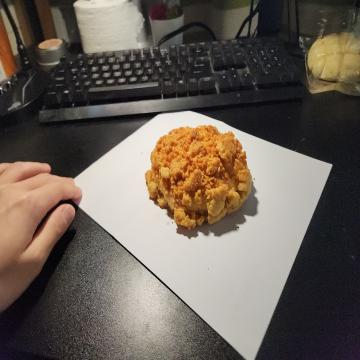soboru_bread: (145, 127, 252, 232)
